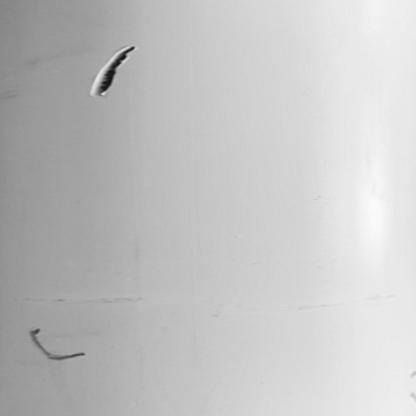fengxi: (21, 321, 87, 359)
kongdong: (79, 42, 151, 98)
